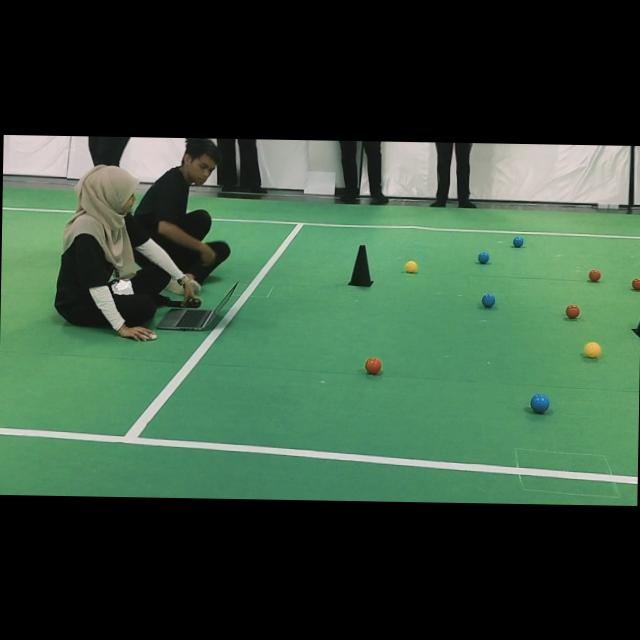ball: (530, 394, 549, 413), (364, 357, 382, 374), (583, 341, 601, 357), (565, 304, 580, 318), (482, 293, 495, 307), (588, 269, 601, 282), (405, 260, 417, 273), (477, 252, 489, 263), (631, 277, 640, 291), (513, 236, 524, 247), (409, 260, 414, 264)
